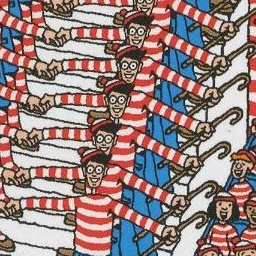waldo: (97, 80, 133, 121), (110, 45, 145, 86), (78, 149, 106, 193), (122, 9, 151, 49), (88, 118, 117, 157)
